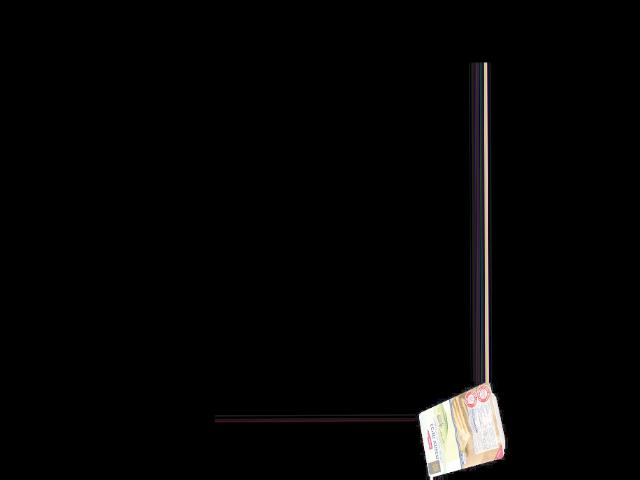cheese: (419, 396, 503, 469)
